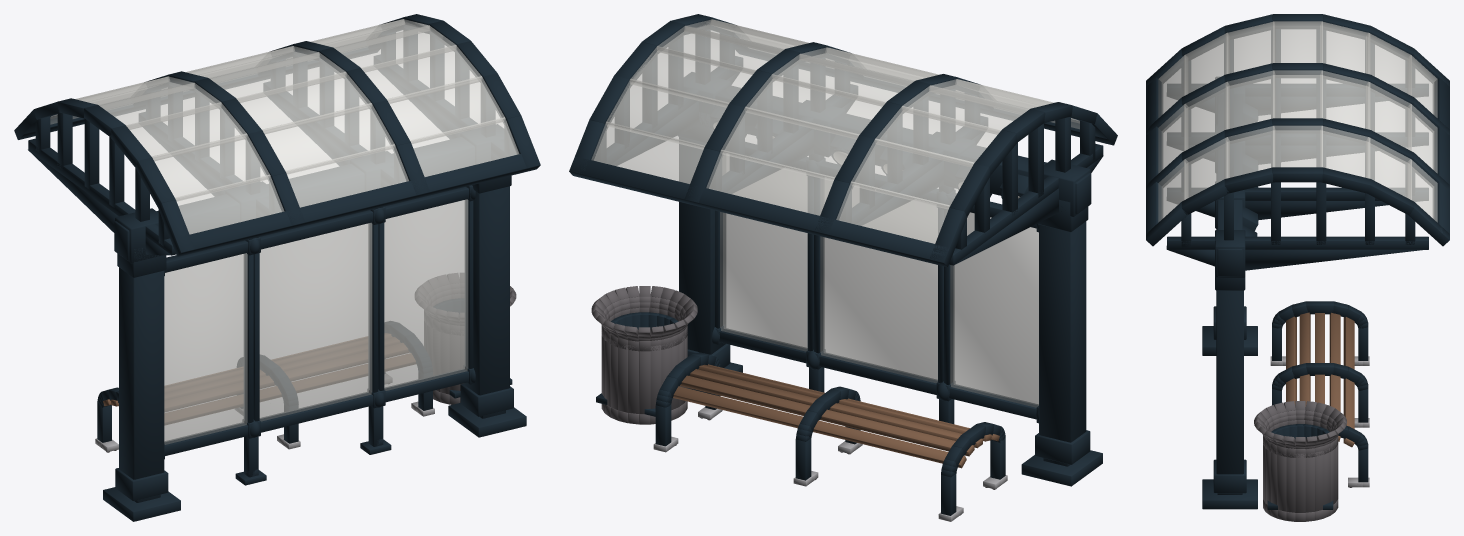
File: Prop_BusStop_CS.glb
The picture shows the model from 3 angles, left to right: view 1: azimuth 30°, elevation 25°; view 2: azimuth 150°, elevation 25°; view 3: azimuth 270°, elevation 25°; orthographic projection. The views are drawn at different scales.
Parts seen in each view (by area): view 1: Prop_BusStop_CS; view 2: Prop_BusStop_CS; view 3: Prop_BusStop_CS.
Part boxes in pixels (x1,y1,x2,y2): Prop_BusStop_CS: [14, 14, 540, 521]; Prop_BusStop_CS: [569, 14, 1117, 521]; Prop_BusStop_CS: [1146, 14, 1449, 521].
Size of the model in its own units: 5.02 by 4.07 by 3.38.
